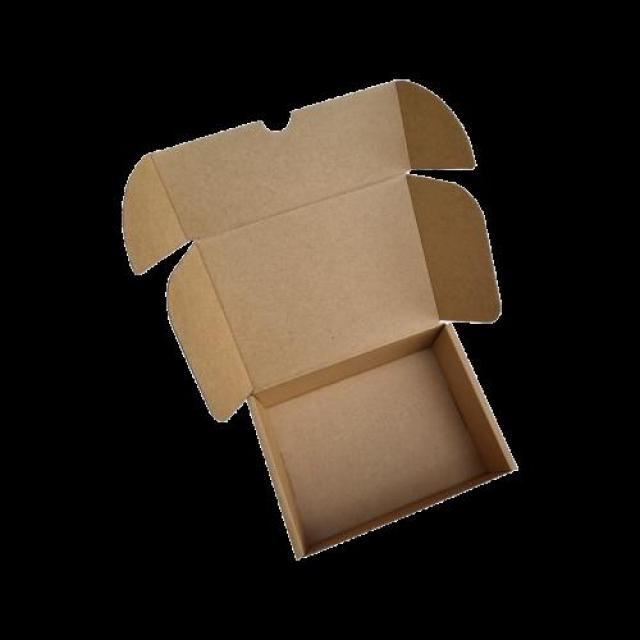Garbage: (118, 70, 525, 561)
